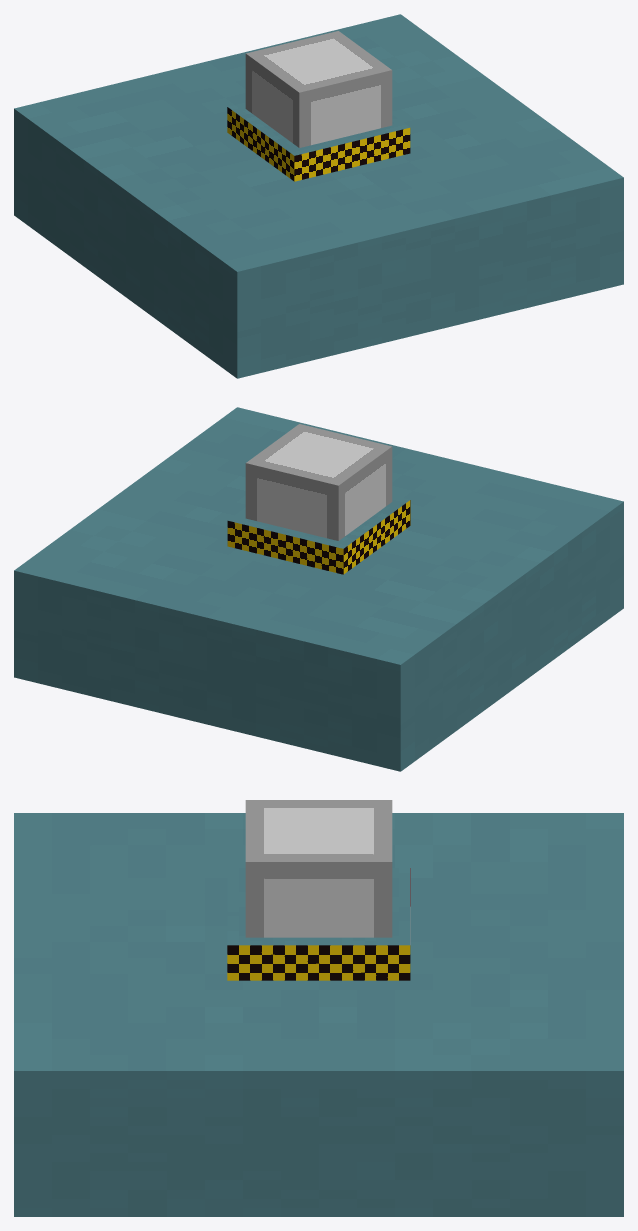
The model's file is maps_button.obj.
The picture shows the model from 3 angles, top to bottom: view 1: azimuth 30°, elevation 25°; view 2: azimuth 150°, elevation 25°; view 3: azimuth 270°, elevation 25°; orthographic projection. The views are drawn at different scales.
Parts seen in each view (by area): view 1: Cube.003; view 2: Cube.003; view 3: Cube.003.
Boxes of the visible parts, left/top/right/bottom form: Cube.003: left=14, top=14, right=623, bottom=378; Cube.003: left=14, top=407, right=623, bottom=771; Cube.003: left=14, top=800, right=623, bottom=1216.
Bounding box in the file's own units: 2 × 0.9297 × 2.
